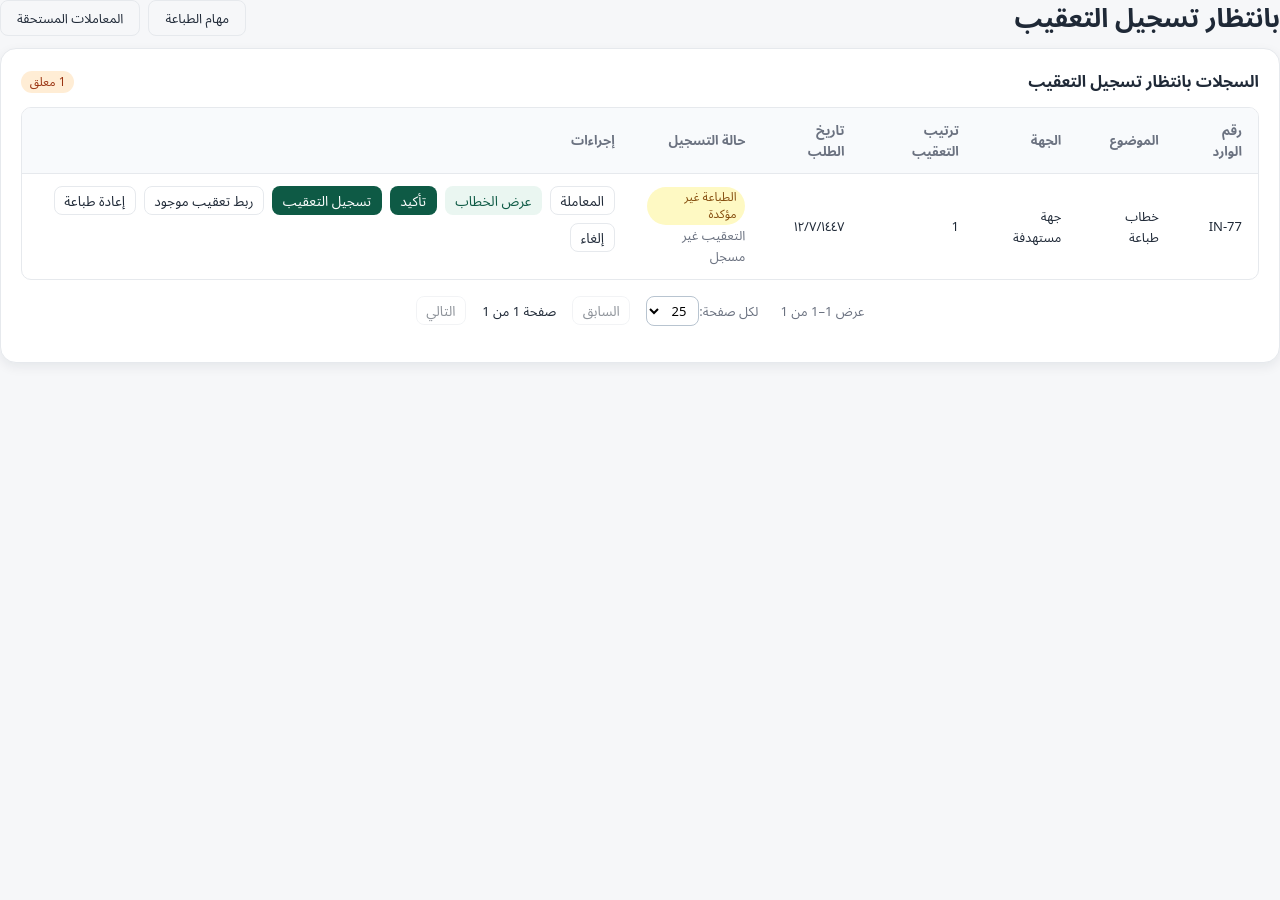
it: FollowUpPrintPendingPage › opens a cancel modal with a reason field instead of a prompt
Expected: the text "IN-77" is shown, [1175,174,1258,279]
Click the button "إلغاء" at [592, 238], box [570,223,615,252]
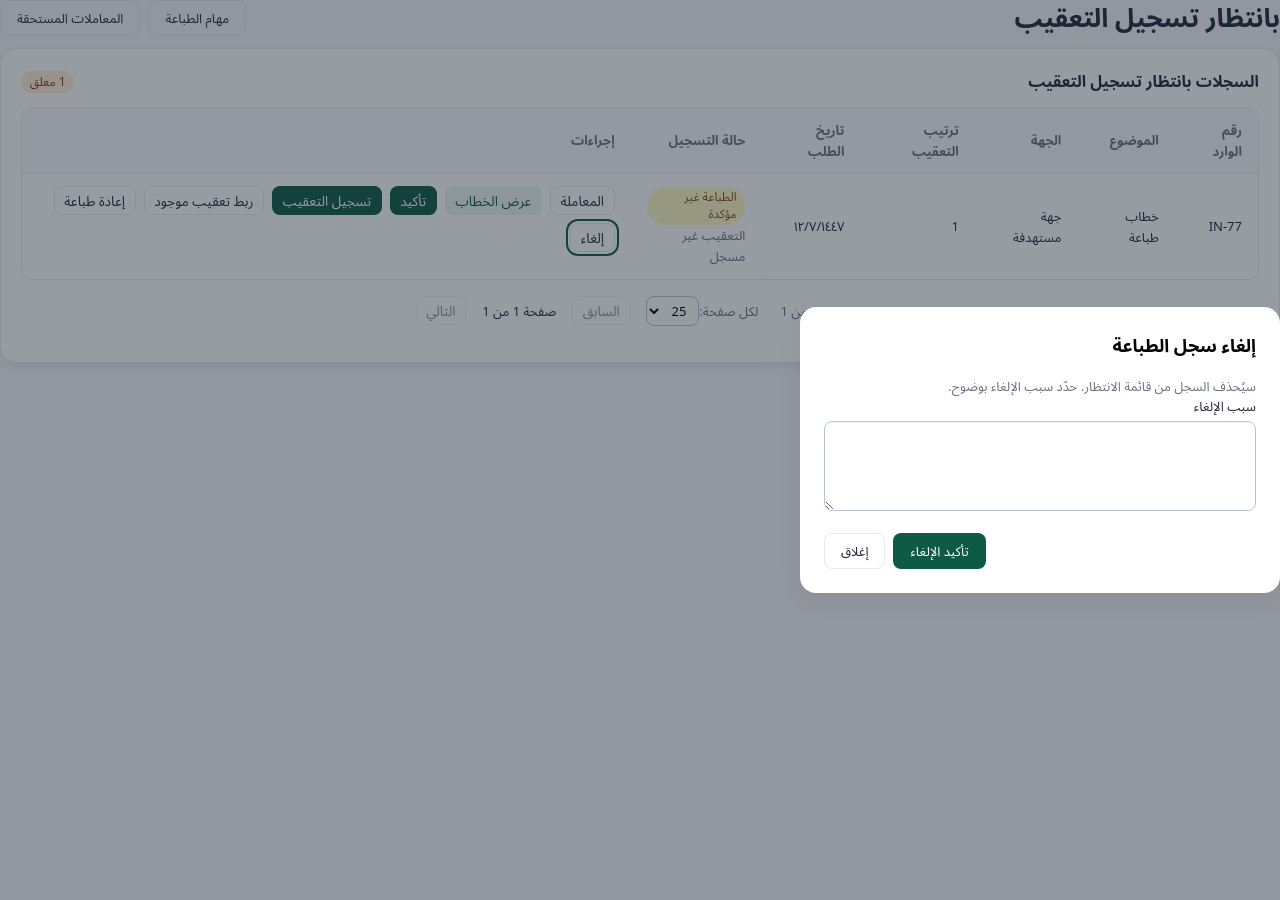
Result: the text box labelled "سبب الإلغاء" is shown at [824,421,1256,511]
Result: the button "تأكيد الإلغاء" is shown at [894,533,986,569]
